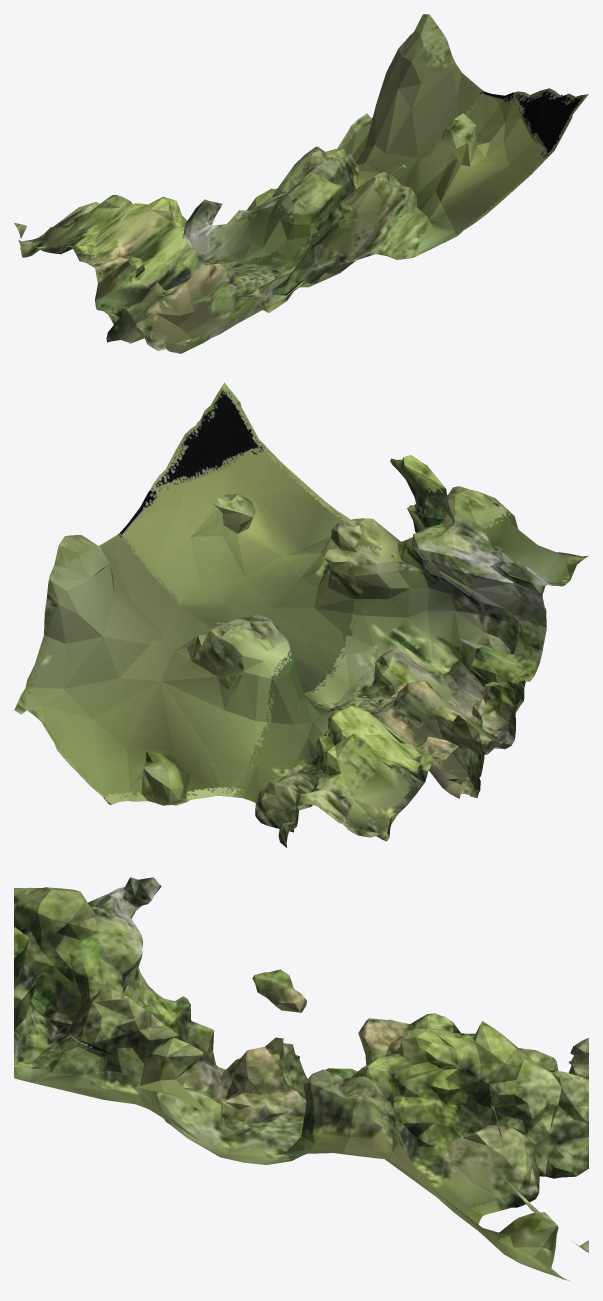
3 views of the same model, one above another, from view 1: azimuth 30°, elevation 25°; view 2: azimuth 150°, elevation 25°; view 3: azimuth 270°, elevation 25° (orthographic). The views are drawn at different scales.
Bounding box in the file's own units: 52.22 × 33.59 × 52.22.
Materials: 4 (4 with a texture image).
